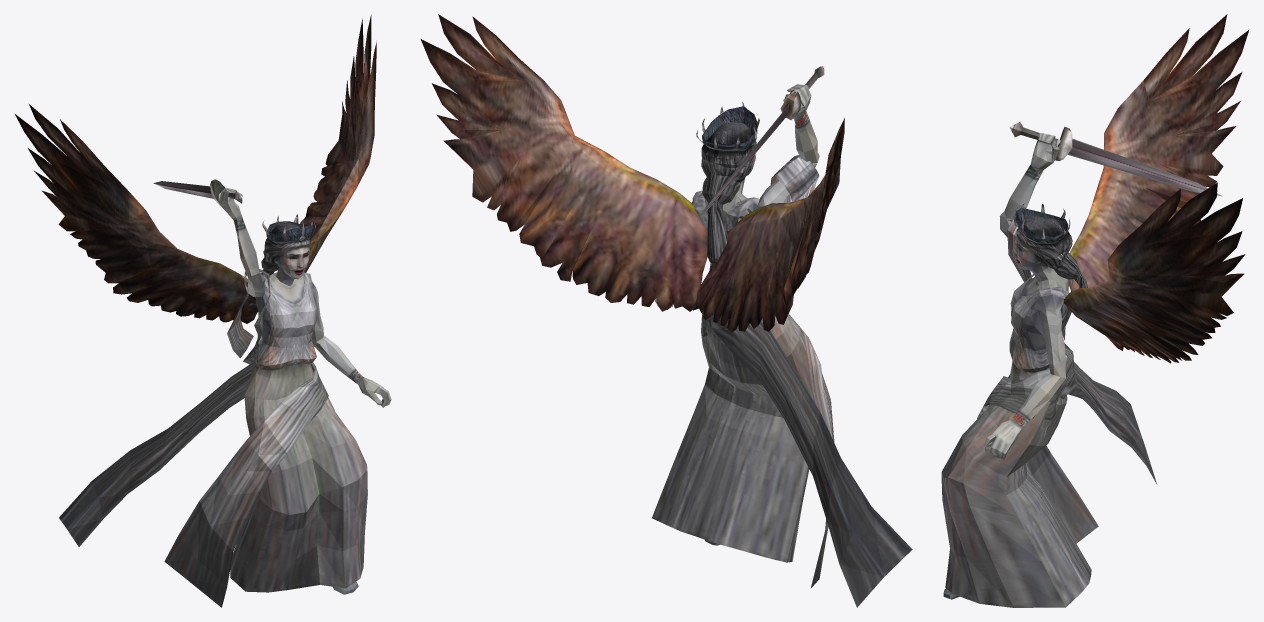
The model's file is Nike.fbx.
3 renders of one model, left to right at view 1: azimuth 30°, elevation 25°; view 2: azimuth 150°, elevation 25°; view 3: azimuth 270°, elevation 25°, orthographic. The views are drawn at different scales.
Visible parts, largest first — view 1: Wings, Body, Sword; view 2: Wings, Body, Sword; view 3: Wings, Body, Sword.
Part boxes in pixels (box(x1,y1,x2,y2)): Wings: box(15, 14, 376, 607); Body: box(218, 187, 391, 592); Sword: box(153, 179, 242, 206); Wings: box(420, 14, 912, 607); Body: box(652, 84, 819, 562); Sword: box(697, 66, 824, 220); Wings: box(943, 14, 1248, 599); Body: box(941, 133, 1091, 607); Sword: box(1009, 122, 1221, 196).
Size of the model in its own units: 1443 by 1857 by 993.
2 materials, 2 textured.
